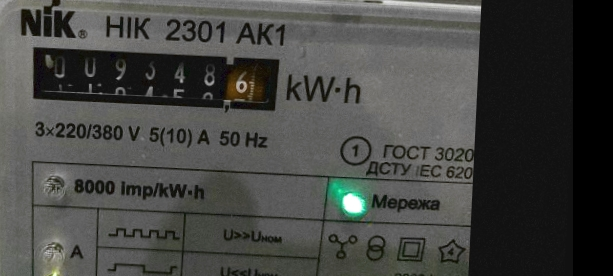0: (50, 53, 68, 80), (82, 52, 97, 78)
3: (142, 55, 158, 81)
4: (169, 55, 189, 86)
6: (232, 66, 250, 96)
8: (201, 59, 217, 88)
9: (112, 56, 128, 84)
screen: (12, 31, 293, 123)
